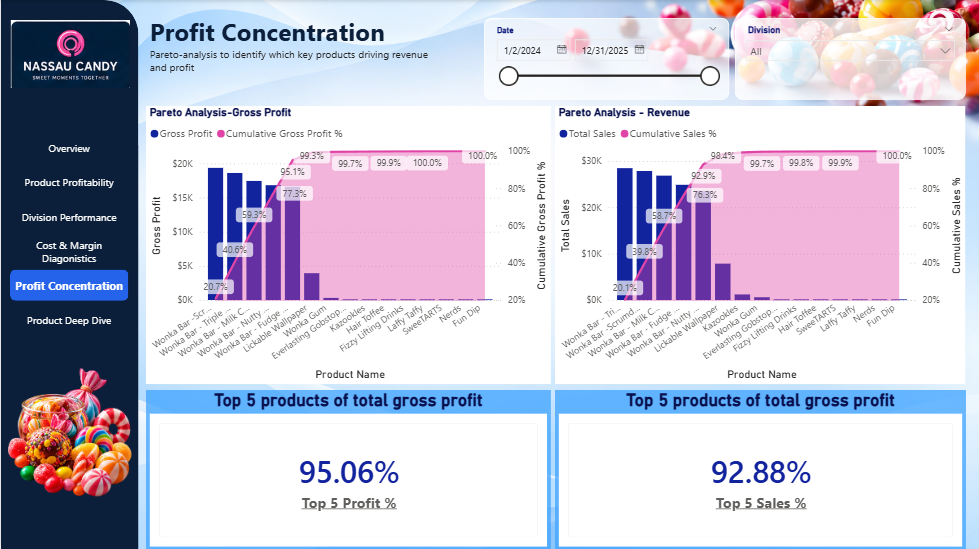

This screenshot's page, from the dashboard's own definition file:
{"tool":"powerbi","page":{"name":"Profit Concentration","canvas":[1280,720],"ordinal":4},"visuals":[{"type":"shape","box":[0,0,180,720],"z":0},{"type":"image","box":[7.2,25.9,165.6,89.3],"z":1000},{"type":"pageNavigator","box":[11.7,172.5,155.8,271.7],"z":2000},{"type":"image","box":[0,480,180,172],"z":3000},{"type":"textbox","box":[190.1,13,437.8,61.9],"z":4000},{"type":"textbox","box":[190.1,56.2,390.2,59],"z":5000},{"type":"slicer","fields":{"Values":["DimDate.Date"]},"box":[632.2,23,321.1,106.6],"z":6000},{"type":"slicer","fields":{"Values":["DimProduct.Division"]},"box":[961,23,302,107],"z":7000},{"type":"lineClusteredColumnComboChart","title":"Pareto Analysis-Gross Profit","fields":{"Category":["DimProduct.Product Name"],"Y":["_Measures.Gross Profit"],"Y2":["_Measures.Cumulative Gross Profit %"]},"box":[190.1,138.2,529.9,364.3],"z":8000},{"type":"lineClusteredColumnComboChart","title":"Pareto Analysis - Revenue","fields":{"Category":["DimProduct.Product Name"],"Y":["_Measures.Total Sales"],"Y2":["_Measures.Cumulative Sales %"]},"box":[725.8,138.2,537.1,364.3],"z":9000},{"type":"cardVisual","title":"Top 5 products of total gross profit","fields":{"Data":["_Measures.Top 5 Profit %"]},"box":[190,510,530,210],"z":10000},{"type":"cardVisual","title":"Top 5 products of total gross profit","fields":{"Data":["_Measures.Top 5 Sales %"]},"box":[725,510,538.3,210],"z":11000}]}

Visuals, with their boxes in screenshot pixels (x1, y1, x2, y2), scaled from the page's 1280x720 canvas onto the 979x549 screenshot:
shape: 0 0 138 548
image: 6 20 132 88
pageNavigator: 9 132 128 339
image: 0 366 138 497
textbox: 145 10 480 57
textbox: 145 43 444 88
slicer - DimDate.Date: 484 18 729 99
slicer - DimProduct.Division: 735 18 966 99
"Pareto Analysis-Gross Profit" lineClusteredColumnComboChart: 145 105 551 383
"Pareto Analysis - Revenue" lineClusteredColumnComboChart: 555 105 966 383
"Top 5 products of total gross profit" cardVisual: 145 389 551 548
"Top 5 products of total gross profit" cardVisual: 555 389 966 548
